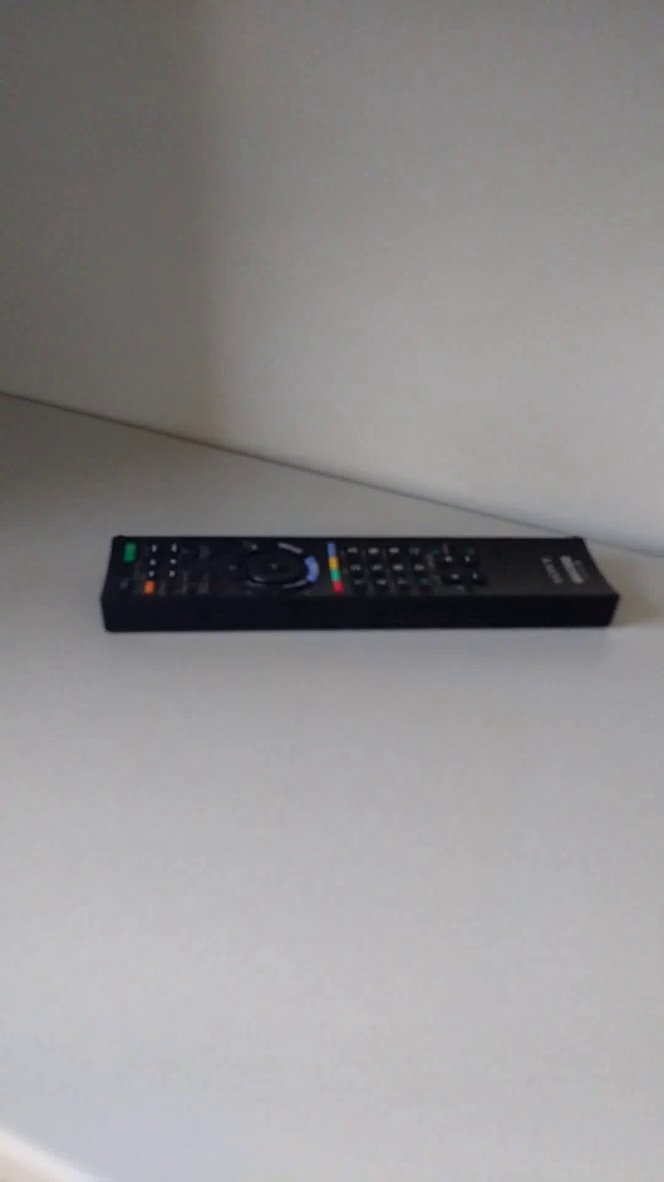remote: (85, 496, 634, 678)
